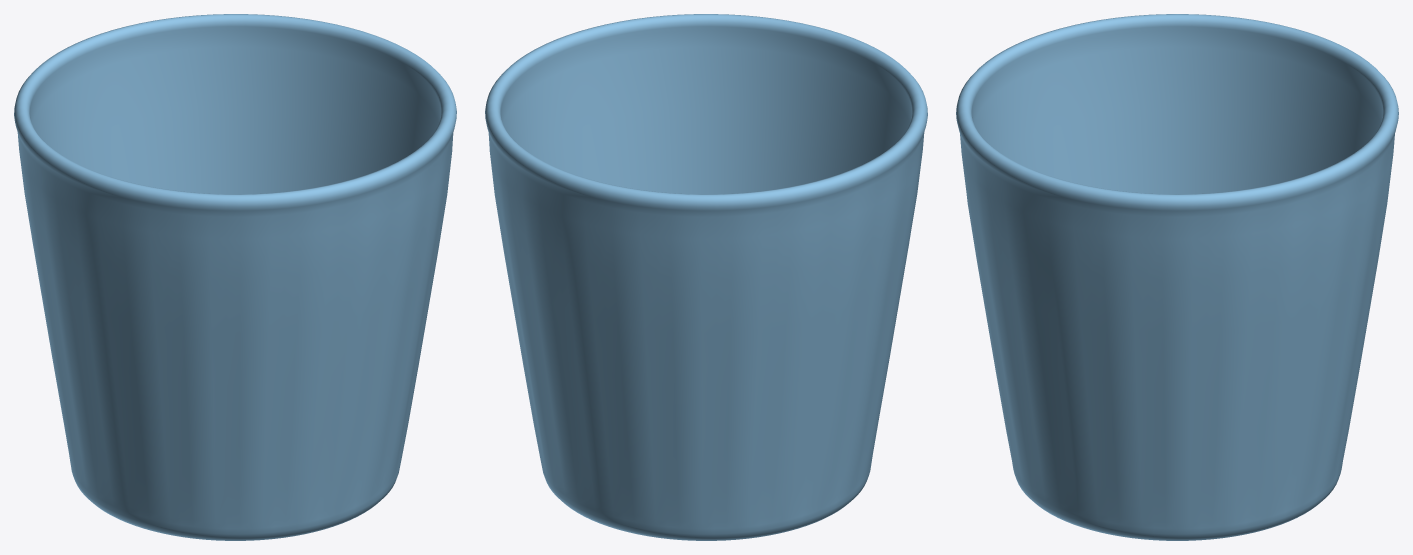
Rendered from loop.glb.
The picture shows the model from 3 angles, left to right: view 1: azimuth 30°, elevation 25°; view 2: azimuth 150°, elevation 25°; view 3: azimuth 270°, elevation 25°; orthographic projection.
Visible parts, largest first — view 1: Approximate blue Loop ceramic pot; view 2: Approximate blue Loop ceramic pot; view 3: Approximate blue Loop ceramic pot.
Boxes of the visible parts, box(x1,y1,x2,y2) form: Approximate blue Loop ceramic pot: box(14, 14, 456, 540); Approximate blue Loop ceramic pot: box(485, 14, 927, 540); Approximate blue Loop ceramic pot: box(956, 14, 1398, 540).
Bounding box in the file's own units: 0.14 × 0.13 × 0.14.
